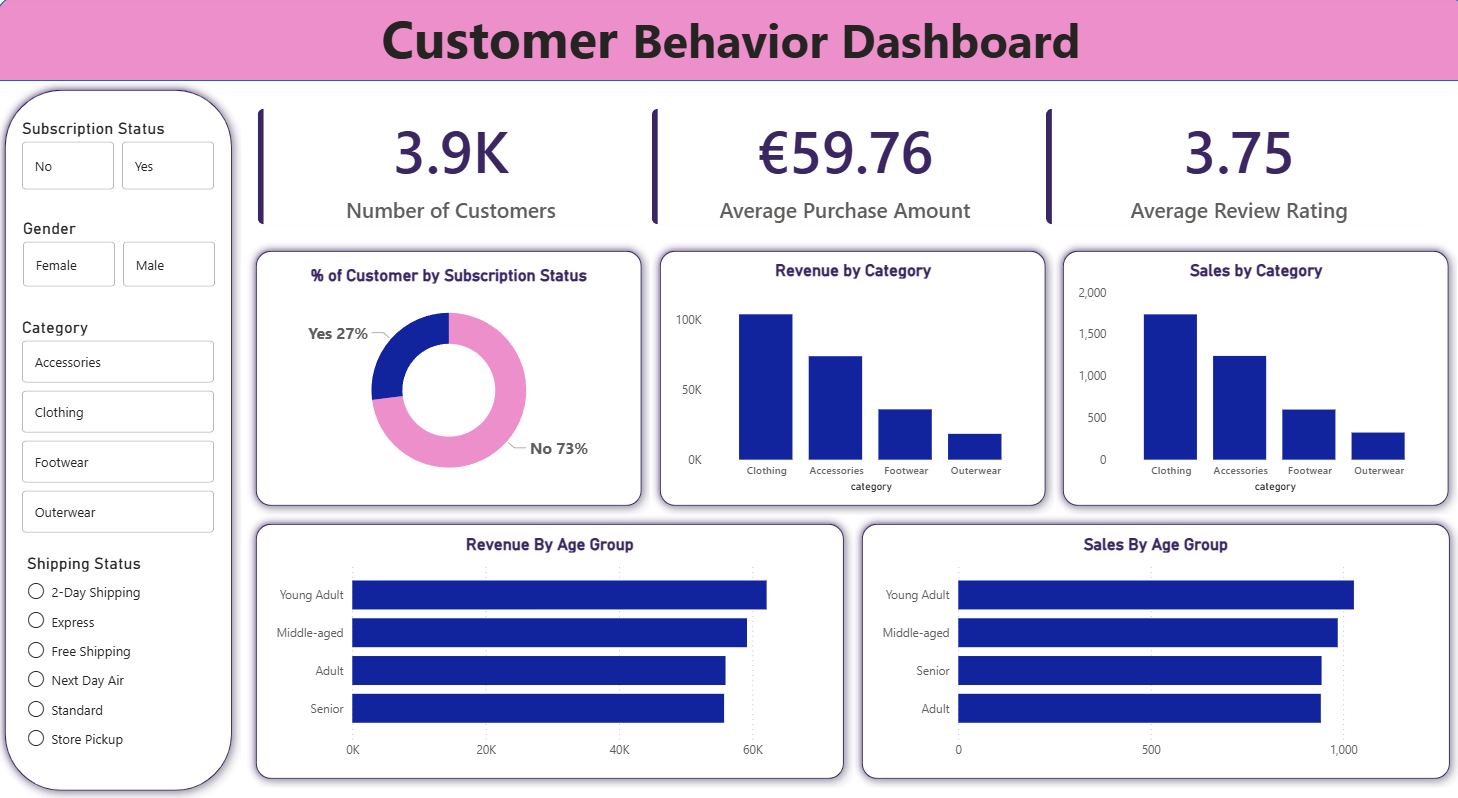

Layout of this report page (visuals, bound fields, positions):
{"tool":"powerbi","page":{"name":"Page 1","canvas":[1500,820],"ordinal":0},"visuals":[{"type":"cardVisual","fields":{"Data":["public customer.Number of Customers","public customer.Average Purchase Amount","public customer.Average Review Rating"]},"box":[249.6,98,1232.1,152.7],"z":0},{"type":"shape","box":[0,0,1500,86.6],"z":1000},{"type":"textbox","box":[356.8,0,785.3,86.6],"z":2000},{"type":"shape","box":[256.5,250.8,411.5,278.1],"z":3000},{"type":"donutChart","title":"% of Customer by Subscription Status","fields":{"Category":["public customer.subscription_status"],"Y":["CountNonNull(public customer.customer_id)"]},"box":[274.7,269,375,241.6],"z":4000},{"type":"shape","box":[667.9,250.8,411.5,278.1],"z":5000},{"type":"clusteredColumnChart","title":"Revenue by Category","fields":{"Y":["Sum(public customer.purchase_amount)"],"Category":["public customer.category"]},"box":[687.3,269,373.9,241.6],"z":6000},{"type":"shape","box":[1079.4,250.8,411.5,278.1],"z":7000},{"type":"clusteredColumnChart","title":"Sales by Category","fields":{"Category":["public customer.category"],"Y":["CountNonNull(public customer.customer_id)"]},"box":[1098.8,269,373.9,241.6],"z":8000},{"type":"shape","box":[0,86.6,249.6,732.9],"z":9000},{"type":"advancedSlicerVisual","title":"Subscription Status","fields":{"Values":["public customer.subscription_status"]},"box":[21.7,124.2,206.3,78.6],"z":10000},{"type":"advancedSlicerVisual","title":"Gender","fields":{"Values":["public customer.gender"]},"box":[22.8,226.8,206.3,75.2],"z":11000},{"type":"advancedSlicerVisual","title":"Category","fields":{"Values":["public customer.category"]},"box":[21.7,327.1,206.3,226.8],"z":12000},{"type":"listSlicer","fields":{"Values":["public customer.shipping_type"]},"box":[26.2,567.6,198.3,215.4],"z":13000},{"type":"shape","box":[256.5,528.9,617.8,278.1],"z":14000},{"type":"shape","box":[874.2,528.9,617.8,278.1],"z":14500},{"type":"clusteredBarChart","title":"Revenue By Age Group","fields":{"Y":["Sum(public customer.purchase_amount)"],"Category":["public customer.age_group"]},"box":[275.8,548.3,579,238.2],"z":15000},{"type":"clusteredBarChart","title":"Sales By Age Group","fields":{"Category":["public customer.age_group"],"Y":["CountNonNull(public customer.customer_id)"]},"box":[893.6,548.3,579,238.2],"z":16001}]}

Visuals, with their boxes in screenshot pixels (x1, y1, x2, y2), scaled from the page's 1500x820 canvas onto the 1458x798 screenshot:
cardVisual - public customer.Number of Customers x public customer.Average Purchase Amount: box(243, 95, 1440, 244)
shape: box(0, 0, 1457, 84)
textbox: box(347, 0, 1110, 84)
shape: box(249, 244, 649, 515)
"% of Customer by Subscription Status" donutChart: box(267, 262, 632, 497)
shape: box(649, 244, 1049, 515)
"Revenue by Category" clusteredColumnChart: box(668, 262, 1031, 497)
shape: box(1049, 244, 1449, 515)
"Sales by Category" clusteredColumnChart: box(1068, 262, 1431, 497)
shape: box(0, 84, 243, 797)
"Subscription Status" advancedSlicerVisual: box(21, 121, 222, 197)
"Gender" advancedSlicerVisual: box(22, 221, 223, 294)
"Category" advancedSlicerVisual: box(21, 318, 222, 539)
listSlicer - public customer.shipping_type: box(25, 552, 218, 762)
shape: box(249, 515, 850, 785)
shape: box(850, 515, 1450, 785)
"Revenue By Age Group" clusteredBarChart: box(268, 534, 831, 765)
"Sales By Age Group" clusteredBarChart: box(869, 534, 1431, 765)
